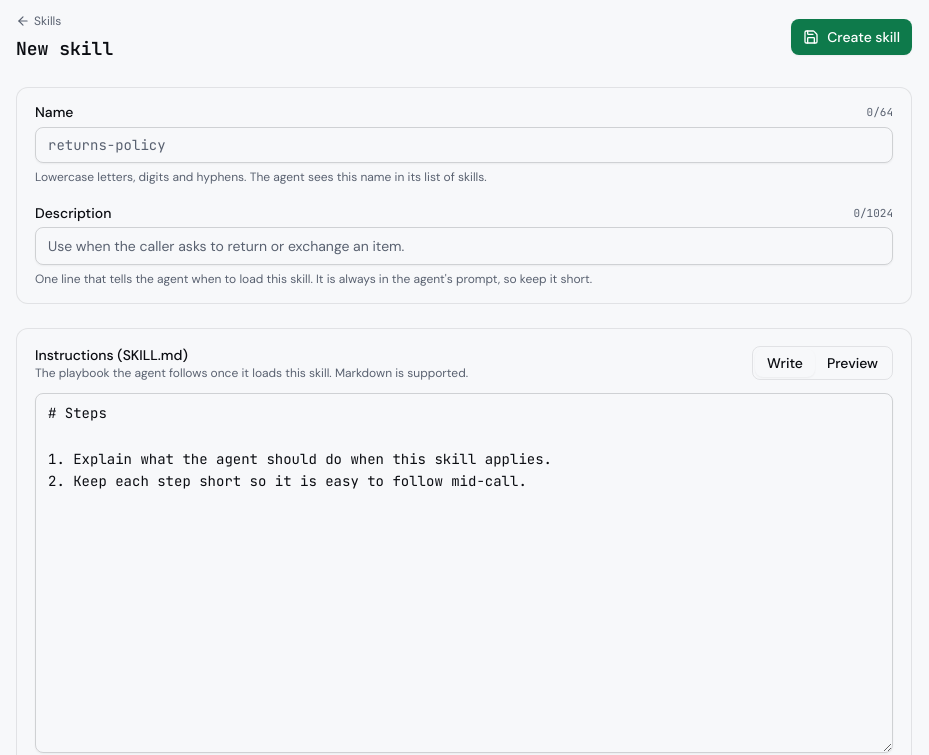
Test: WorkspaceSkillEditor › validates name and description before creating
Type "Returns Policy" into the field labelled "Name" at (464, 144), box [35,126,893,162]
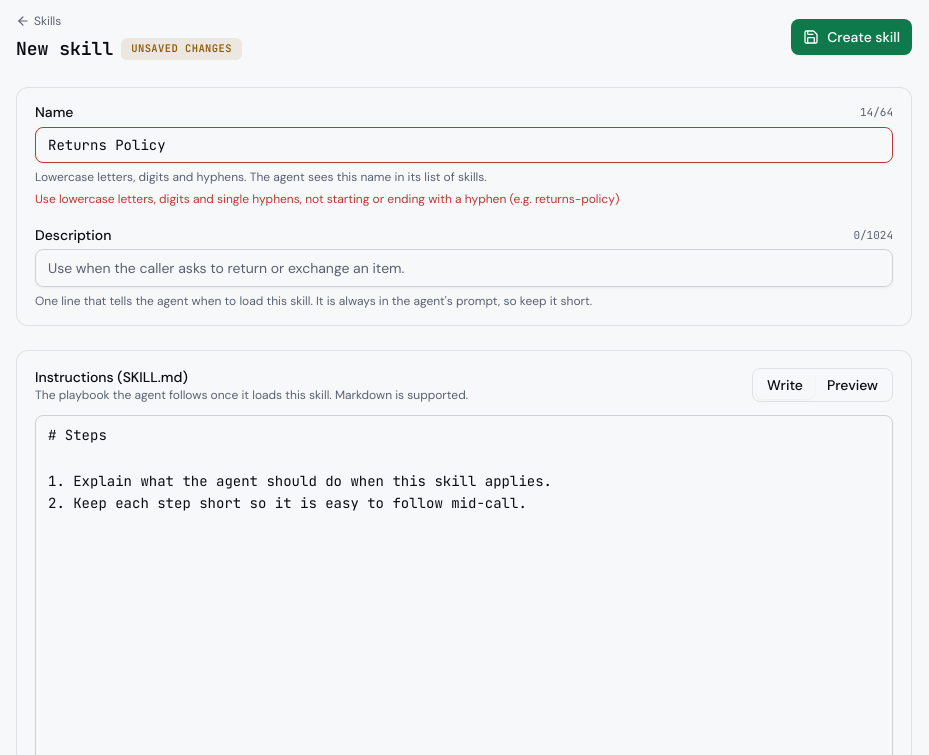
Now the text "Use lowercase letters, digits and single hyphens" is shown, box [35,190,619,206]
Click the button "Create skill" at (852, 37), box [791,19,912,55]
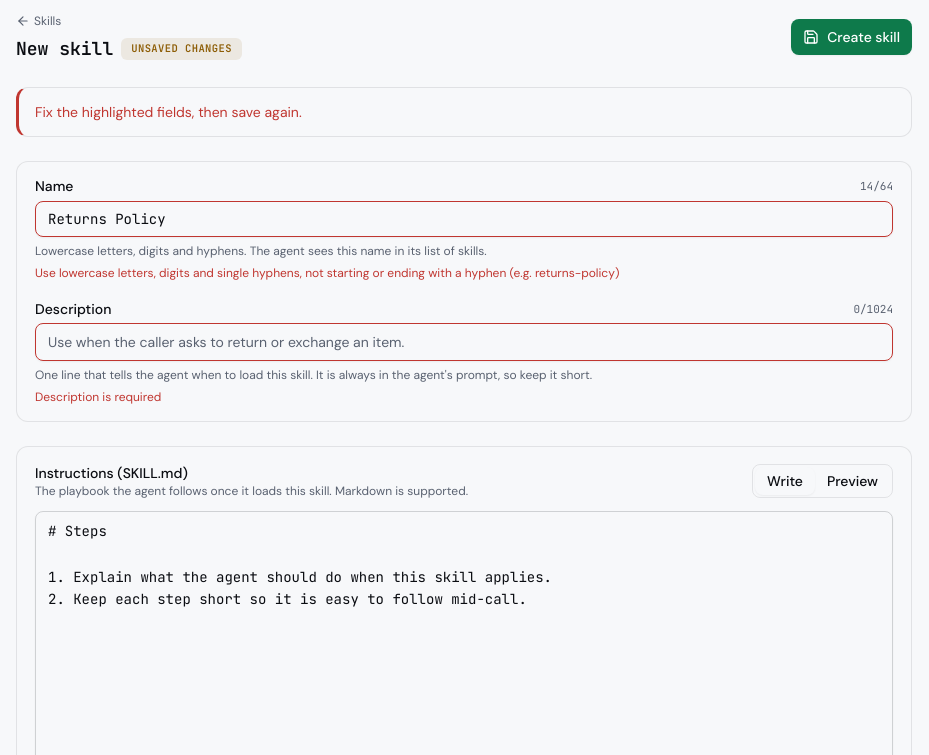
Now the text "Fix the highlighted fields, then save again." is shown, box [35,103,302,121]
Now the text "Description is required" is shown, box [35,389,161,405]
